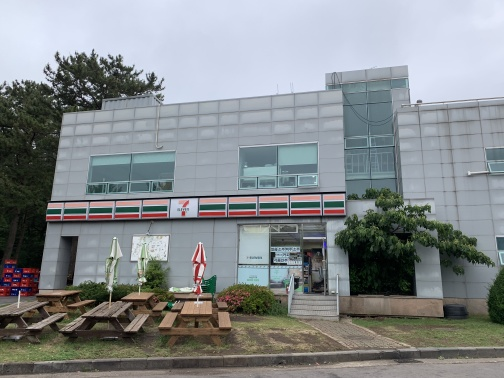Global House: (48, 67, 504, 322)
